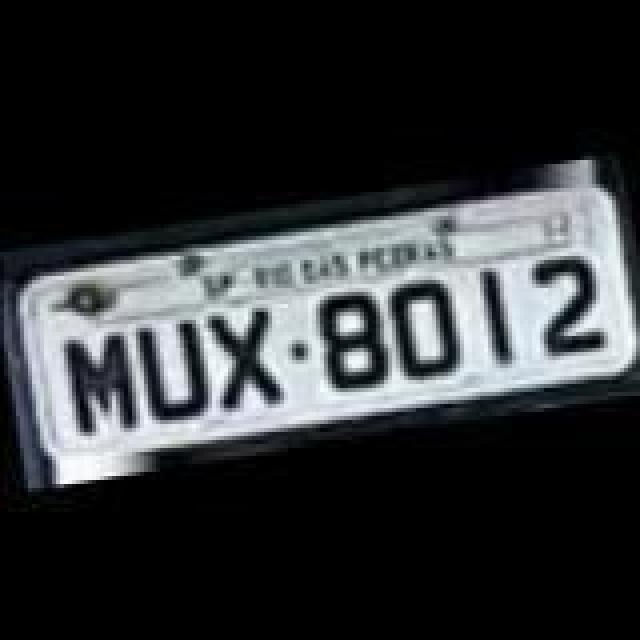1: (470, 256, 526, 368)
2: (522, 248, 610, 360)
8: (306, 280, 394, 392)
K: (196, 298, 288, 414)
M: (52, 326, 144, 442)
O: (386, 272, 466, 384)
U: (132, 308, 224, 428)
